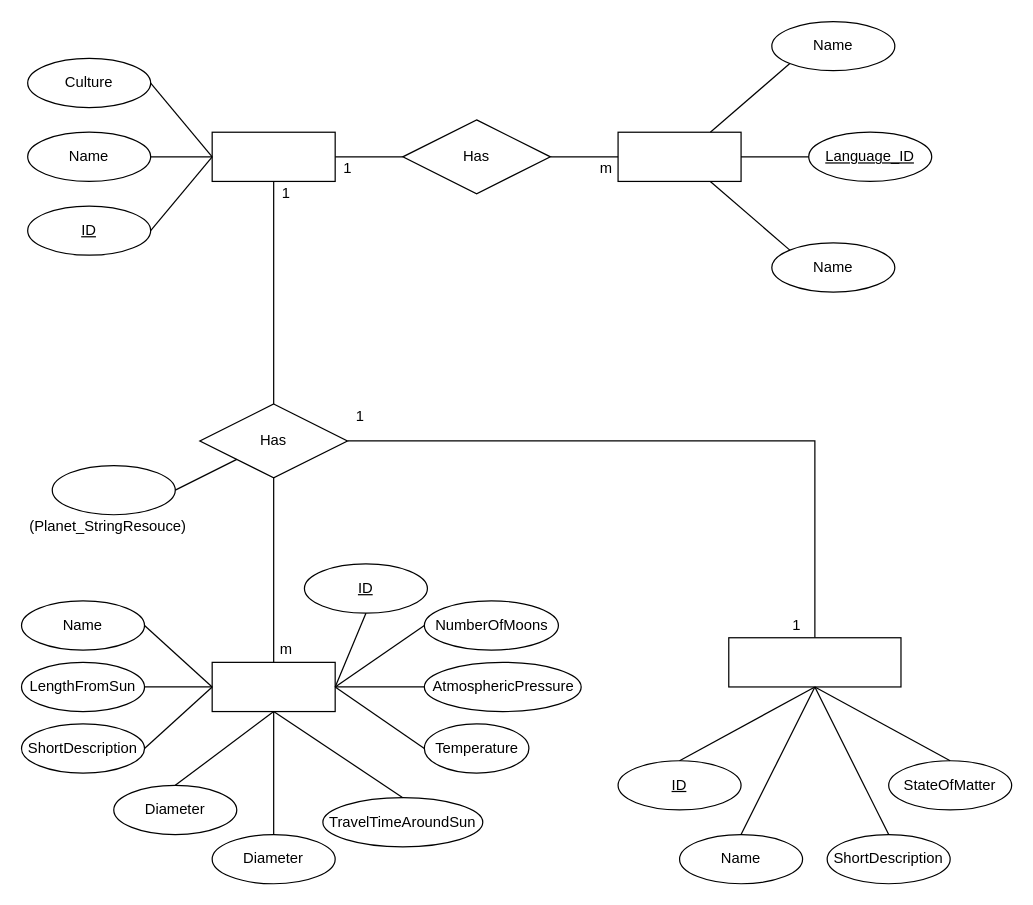
Some shapes in this 1033 by 905 pixel diagram are drawn without their labels. Here are the shapes that lost their labels. From the top down, the centre of each, then its label:
(273,156): Language
(679,156): StringResources
(113,489): PSR_ID
(814,662): Planet_StringResources
(273,686): Planet_Info
